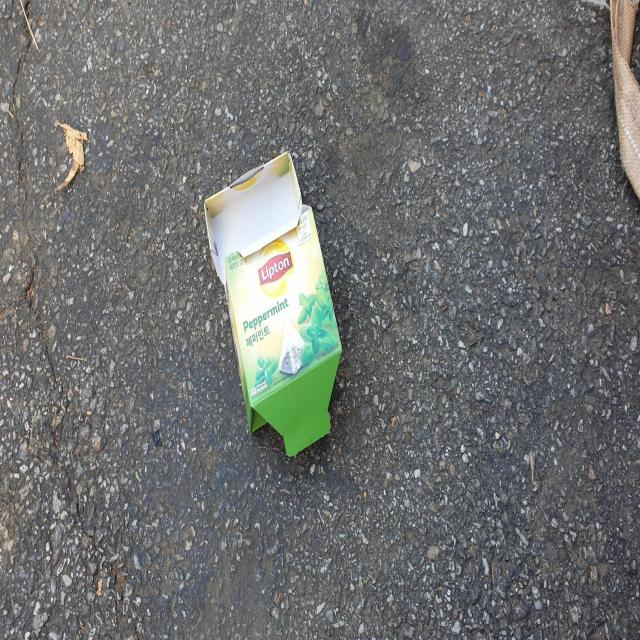paperpack: (204, 151, 342, 456)
